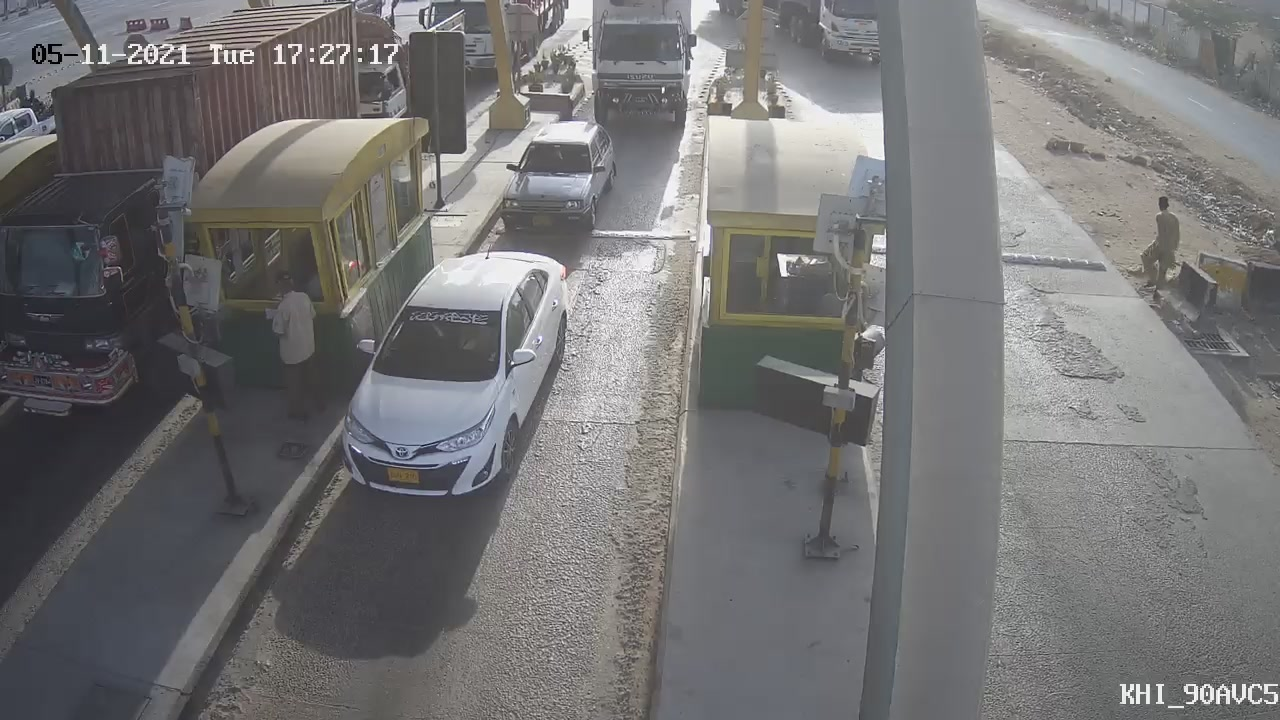F1: (313, 225, 596, 533), (479, 105, 630, 247)
